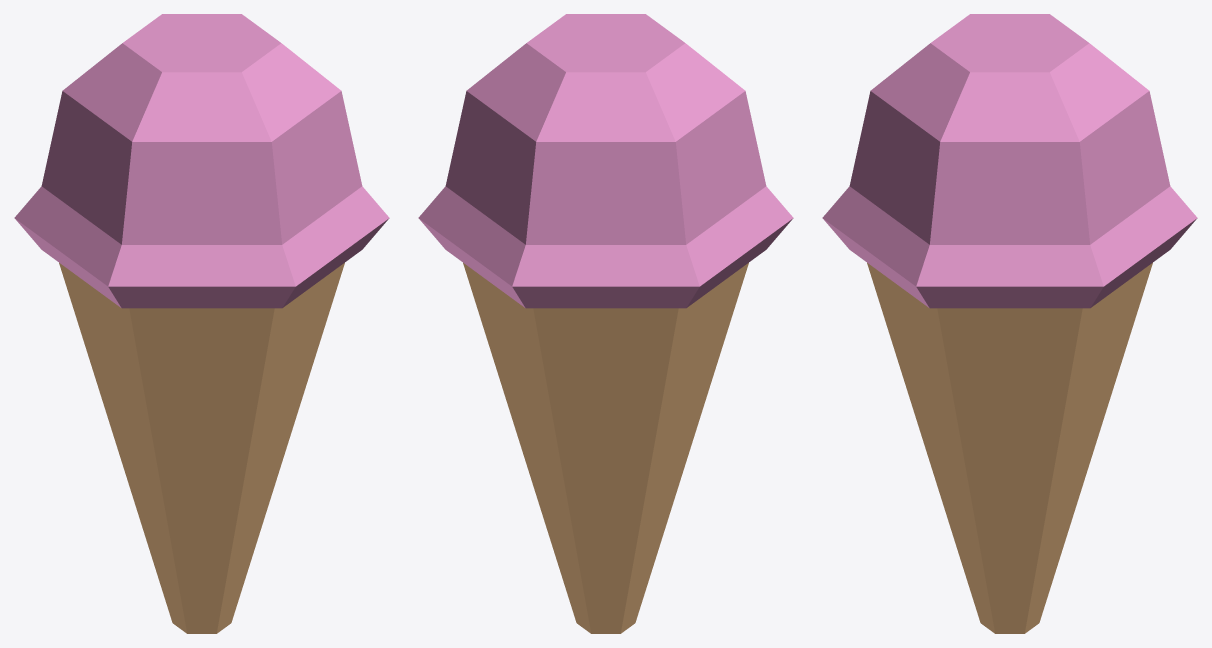
Rendered from iceCream.obj.
3 renders of one model, left to right at view 1: azimuth 30°, elevation 25°; view 2: azimuth 150°, elevation 25°; view 3: azimuth 270°, elevation 25°, orthographic.
Parts seen in each view (by area): view 1: iceCream; view 2: iceCream; view 3: iceCream.
Part boxes in pixels (<box>): iceCream: <box>14,14,389,633</box>; iceCream: <box>418,14,793,633</box>; iceCream: <box>822,14,1197,633</box>.
Size of the model in its own units: 0.2352 by 0.4632 by 0.2716.
